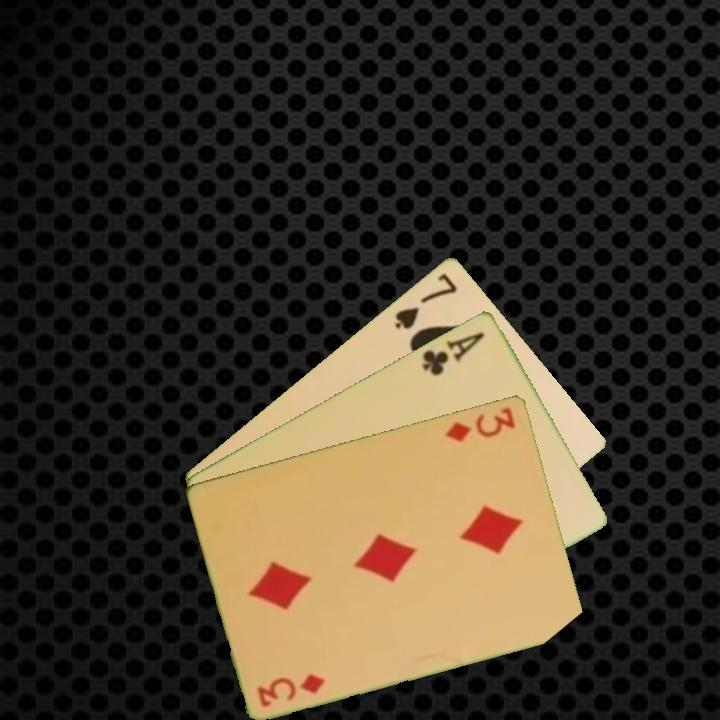3d: (441, 403, 518, 444), (253, 669, 328, 710)
7s: (390, 269, 460, 332)
Ac: (418, 328, 487, 378)
